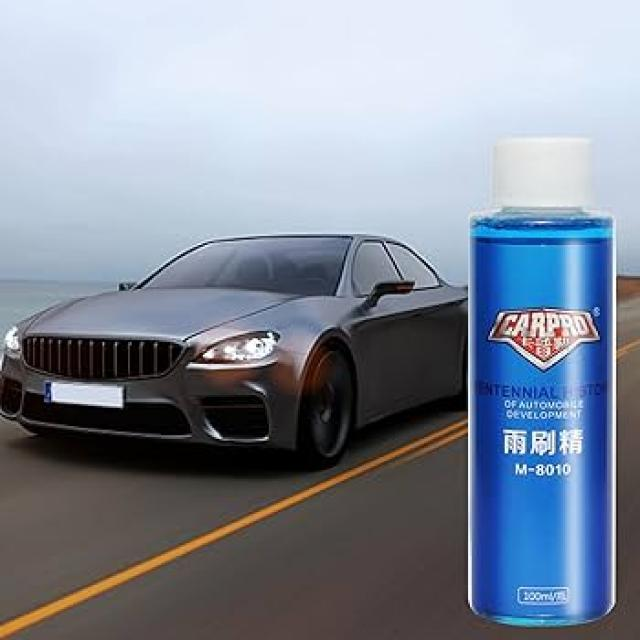winwinshield_washer: (466, 135, 622, 632)
